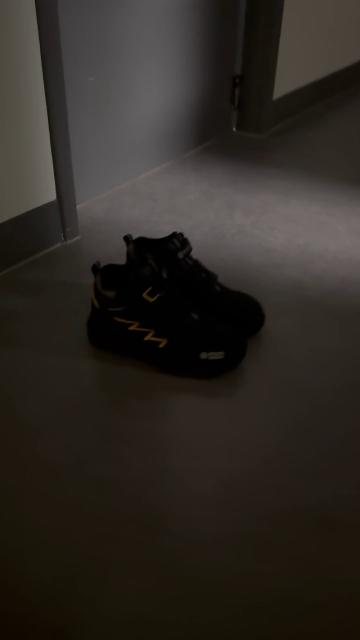shoe_worn: (88, 259, 248, 378), (120, 231, 268, 340)
